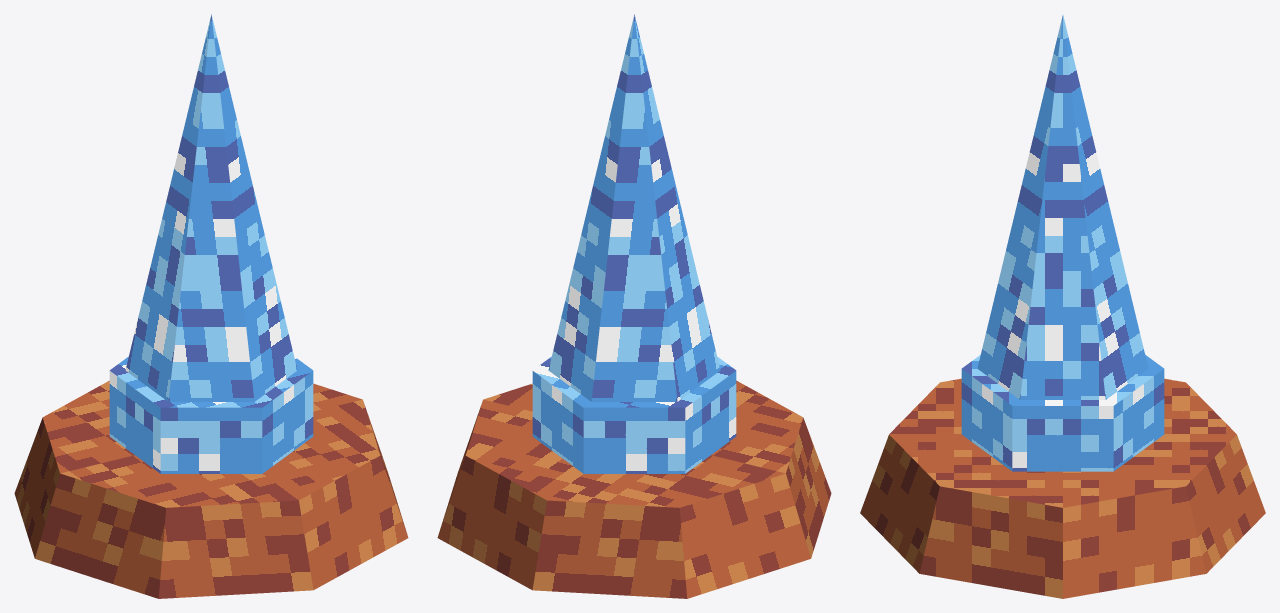
The model's file is r04_cristal.glb.
3 renders of one model, left to right at view 1: azimuth 30°, elevation 25°; view 2: azimuth 150°, elevation 25°; view 3: azimuth 270°, elevation 25°, orthographic.
Parts seen in each view (by area): view 1: r04_cristal; view 2: r04_cristal; view 3: r04_cristal.
Part boxes in pixels (x1,y1,x2,y2): r04_cristal: (14,14,408,598); r04_cristal: (437,14,831,598); r04_cristal: (860,15,1265,598).
Size of the model in its own units: 1.4 by 1.9 by 1.4.
Materials: 2 (2 with a texture image).
